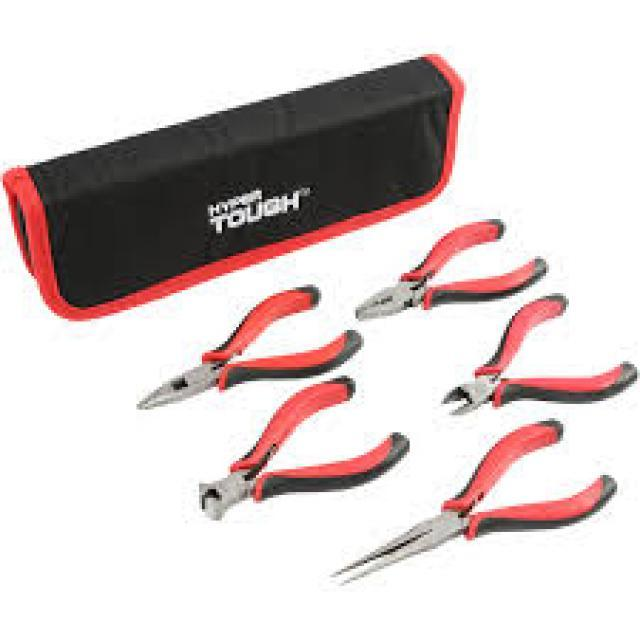pliers: (328, 416, 628, 587), (188, 372, 417, 533), (126, 274, 362, 419), (437, 282, 640, 424), (348, 207, 545, 336)
